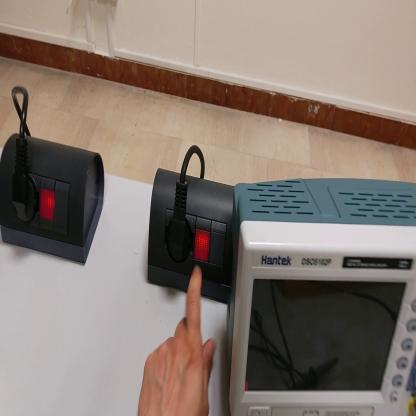hand: (138, 266, 216, 416)
oscilloscope: (224, 180, 416, 415)
socket: (2, 130, 107, 267), (148, 168, 237, 307)
